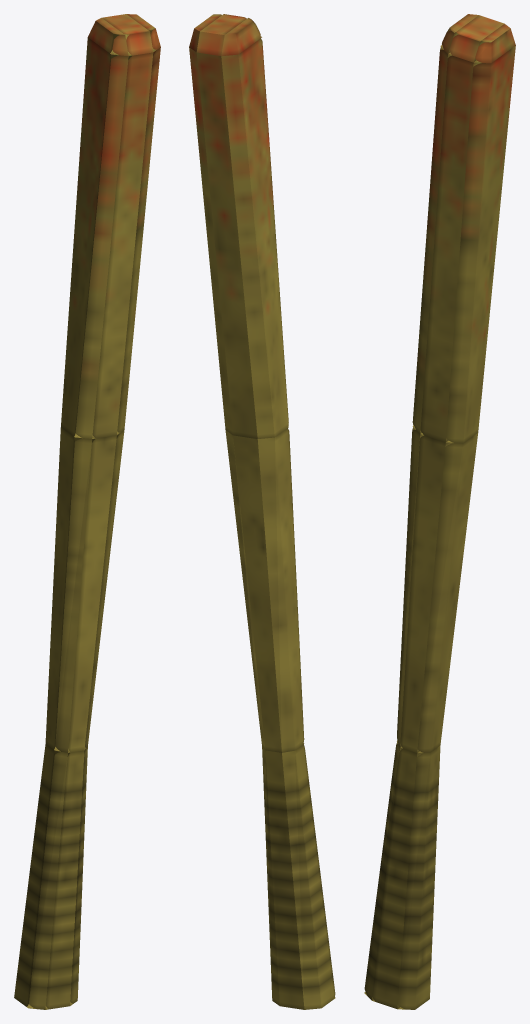
Rendered from baseballbat.obj.
3 renders of one model, left to right at view 1: azimuth 30°, elevation 25°; view 2: azimuth 150°, elevation 25°; view 3: azimuth 330°, elevation 25°, orthographic. The views are drawn at different scales.
Visible parts, largest first — view 1: gunModel4, gunModel2, gunModel1, gunModel9, gunModel0, gunModel11, gunModel3, gunModel5, gunModel10, gunModel6, gunModel8; view 2: gunModel4, gunModel2, gunModel1, gunModel9, gunModel0, gunModel11, gunModel3, gunModel5, gunModel10, gunModel6, gunModel8; view 3: gunModel3, gunModel2, gunModel5, gunModel10, gunModel0, gunModel11, gunModel4, gunModel1, gunModel9, gunModel6, gunModel7, gunModel8.
Part boxes in pixels (x1,y1,x2,y2): gunModel4: (61, 37, 128, 438); gunModel2: (92, 34, 153, 438); gunModel1: (45, 427, 92, 752); gunModel9: (14, 744, 67, 1009); gunModel0: (68, 435, 116, 752); gunModel11: (45, 749, 84, 1009); gunModel3: (117, 47, 160, 434); gunModel5: (84, 430, 124, 749); gunModel10: (67, 746, 87, 1005); gunModel6: (102, 14, 153, 55); gunModel8: (88, 18, 128, 56); gunModel4: (221, 38, 288, 438); gunModel2: (196, 52, 257, 438); gunModel1: (257, 428, 304, 752); gunModel9: (282, 744, 335, 1009); gunModel0: (233, 435, 281, 752); gunModel11: (265, 750, 304, 1009); gunModel3: (189, 47, 232, 434); gunModel5: (225, 430, 265, 749); gunModel10: (262, 746, 279, 1005); gunModel6: (196, 14, 246, 55); gunModel8: (221, 18, 261, 56); gunModel3: (446, 45, 515, 443); gunModel2: (420, 53, 481, 442); gunModel5: (417, 433, 477, 753); gunModel10: (397, 746, 440, 1009); gunModel0: (400, 434, 453, 752); gunModel11: (372, 748, 421, 1009); gunModel4: (412, 47, 450, 433); gunModel1: (397, 427, 423, 747); gunModel9: (364, 742, 402, 1000); gunModel6: (448, 15, 504, 62); gunModel7: (474, 23, 515, 63); gunModel8: (440, 14, 478, 53).
Bounding box in the file's own units: 15.48 × 111 × 7.
